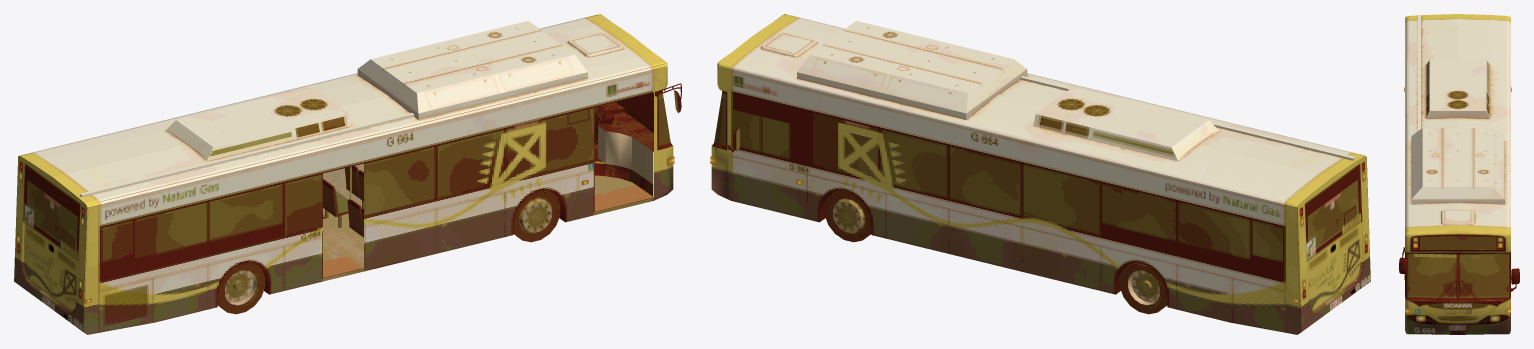
The model's file is bus.glb.
3 views of the same model, side by side, from view 1: azimuth 30°, elevation 25°; view 2: azimuth 150°, elevation 25°; view 3: azimuth 270°, elevation 25° (orthographic). The views are drawn at different scales.
Visible parts, largest first — view 1: Exterior, Interior; view 2: Exterior; view 3: Exterior.
Part boxes in pixels (left/top/right/bottom): Exterior: left=14, top=14, right=681, bottom=334; Interior: left=63, top=93, right=653, bottom=277; Exterior: left=710, top=14, right=1370, bottom=334; Exterior: left=1399, top=14, right=1519, bottom=334.
Size of the model in its own units: 18.16 by 4.92 by 4.16.
Materials: 5 (5 with a texture image).
